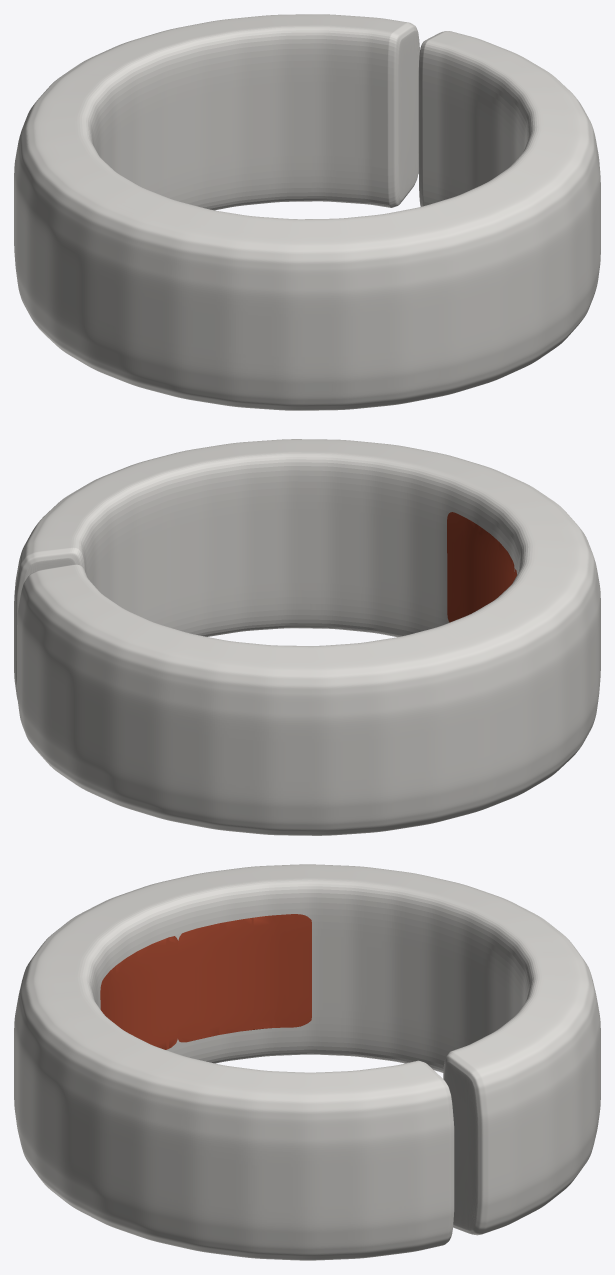
The model's file is Ring.glb.
3 renders of one model, top to bottom at view 1: azimuth 30°, elevation 25°; view 2: azimuth 150°, elevation 25°; view 3: azimuth 270°, elevation 25°, orthographic.
Visible parts, largest first — view 1: Torus; view 2: Torus, Plane; view 3: Torus, Plane.
Boxes of the visible parts, x1,y1,x2,y2 form: Torus: [14, 14, 600, 410]; Torus: [14, 439, 600, 835]; Plane: [447, 512, 516, 622]; Torus: [14, 864, 600, 1260]; Plane: [100, 914, 311, 1049].
Bounding box in the file's own units: 0.6793 × 0.2227 × 0.6793.
